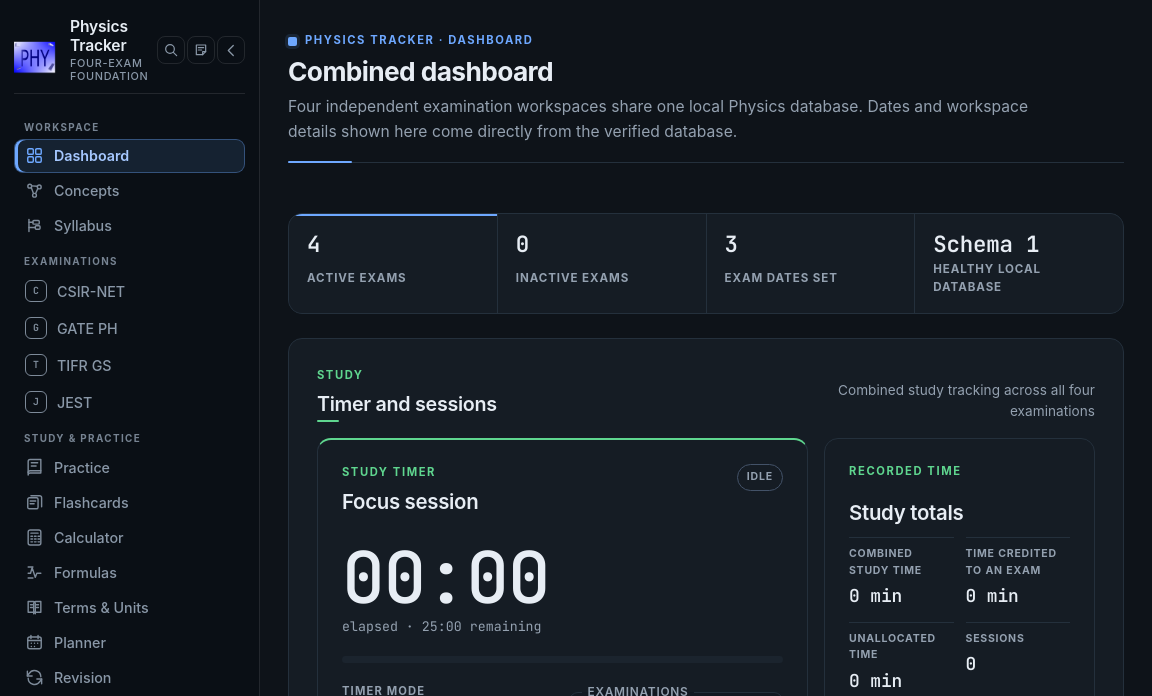
it: V2 application shell › navigates to the calculator workspace from the sidebar
Expected: the heading "Combined dashboard" is shown, left=288, top=55, right=553, bottom=87
Click the button with aria-label "Scientific calculator" at (130, 538), box left=14, top=520, right=245, bottom=554
(page scrolled)
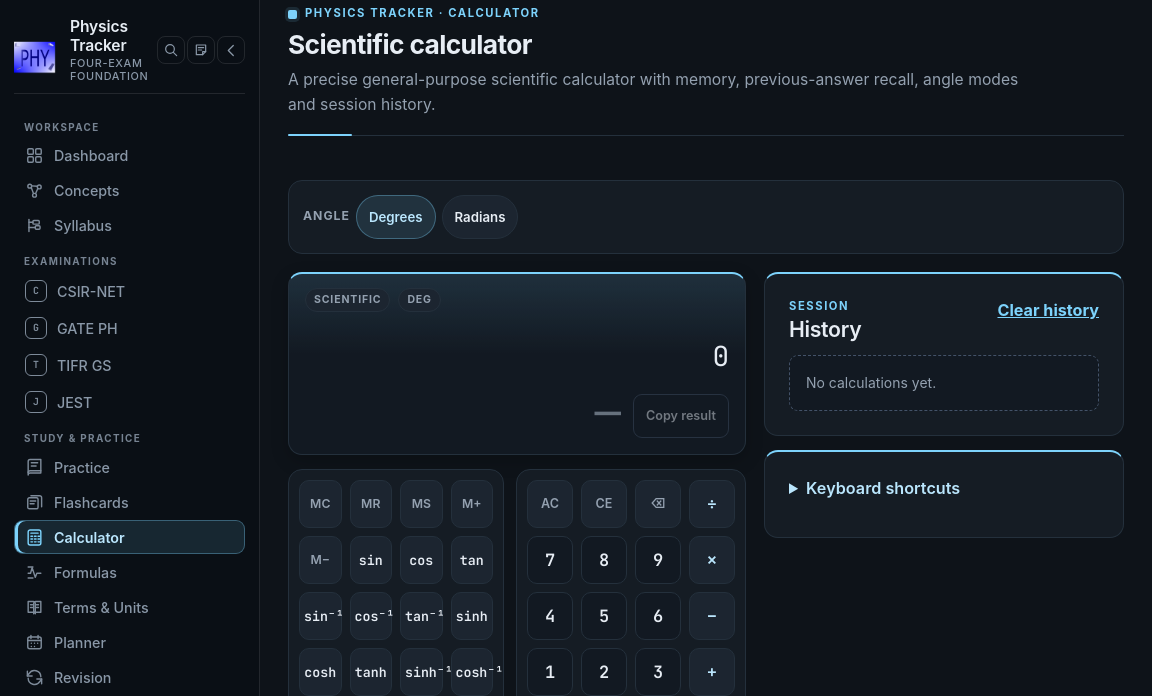
Result: the heading "Scientific calculator" is shown at left=288, top=28, right=532, bottom=60
Result: the button with aria-label "Sine" is enabled at left=350, top=536, right=392, bottom=584
